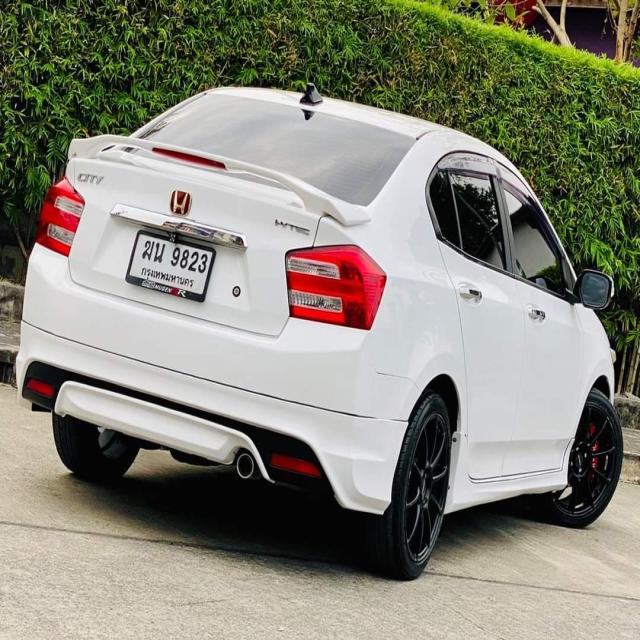license_plate: (124, 220, 217, 309)
